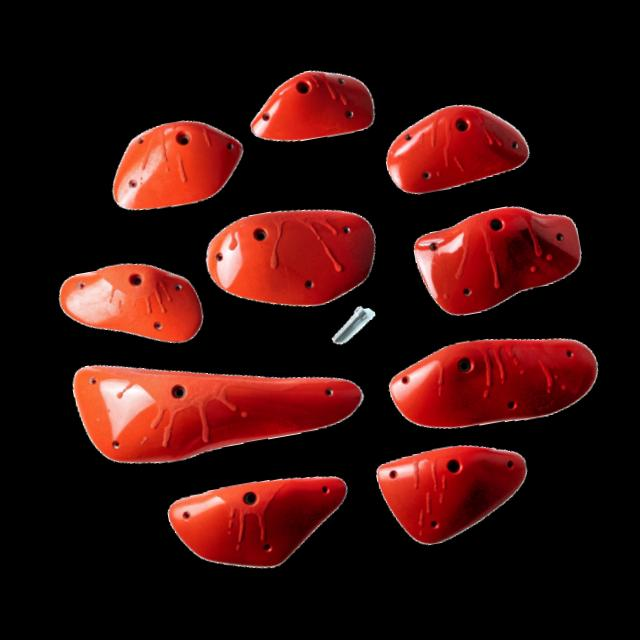Hold: (64, 314, 376, 486), (376, 314, 609, 441), (156, 456, 368, 593), (190, 188, 381, 326), (403, 191, 590, 322), (364, 437, 540, 554), (378, 92, 536, 206), (52, 248, 211, 360), (104, 111, 254, 216), (242, 60, 386, 154)
